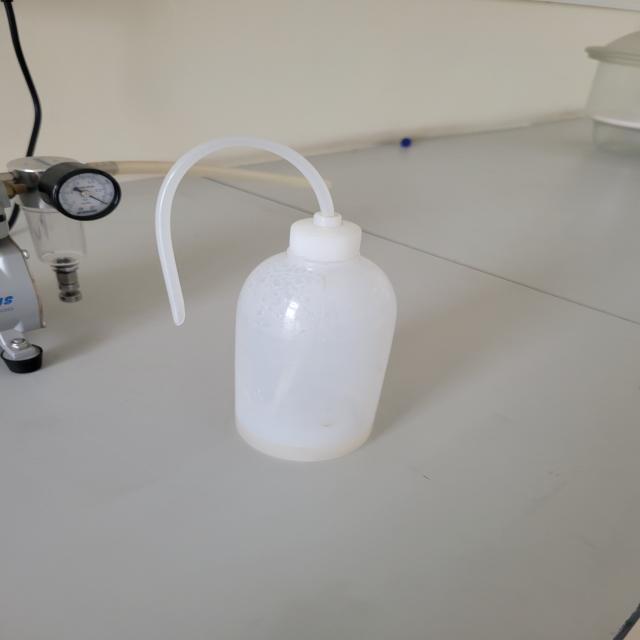Wash_Bottle: (115, 115, 438, 489)
